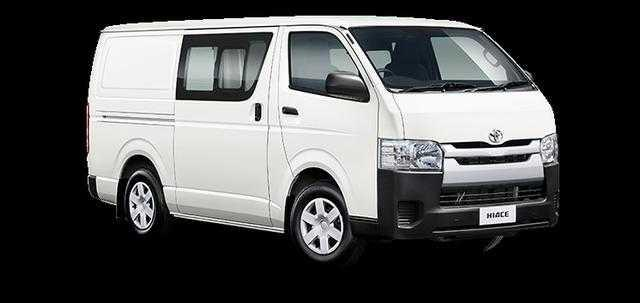car: (95, 20, 569, 263)
